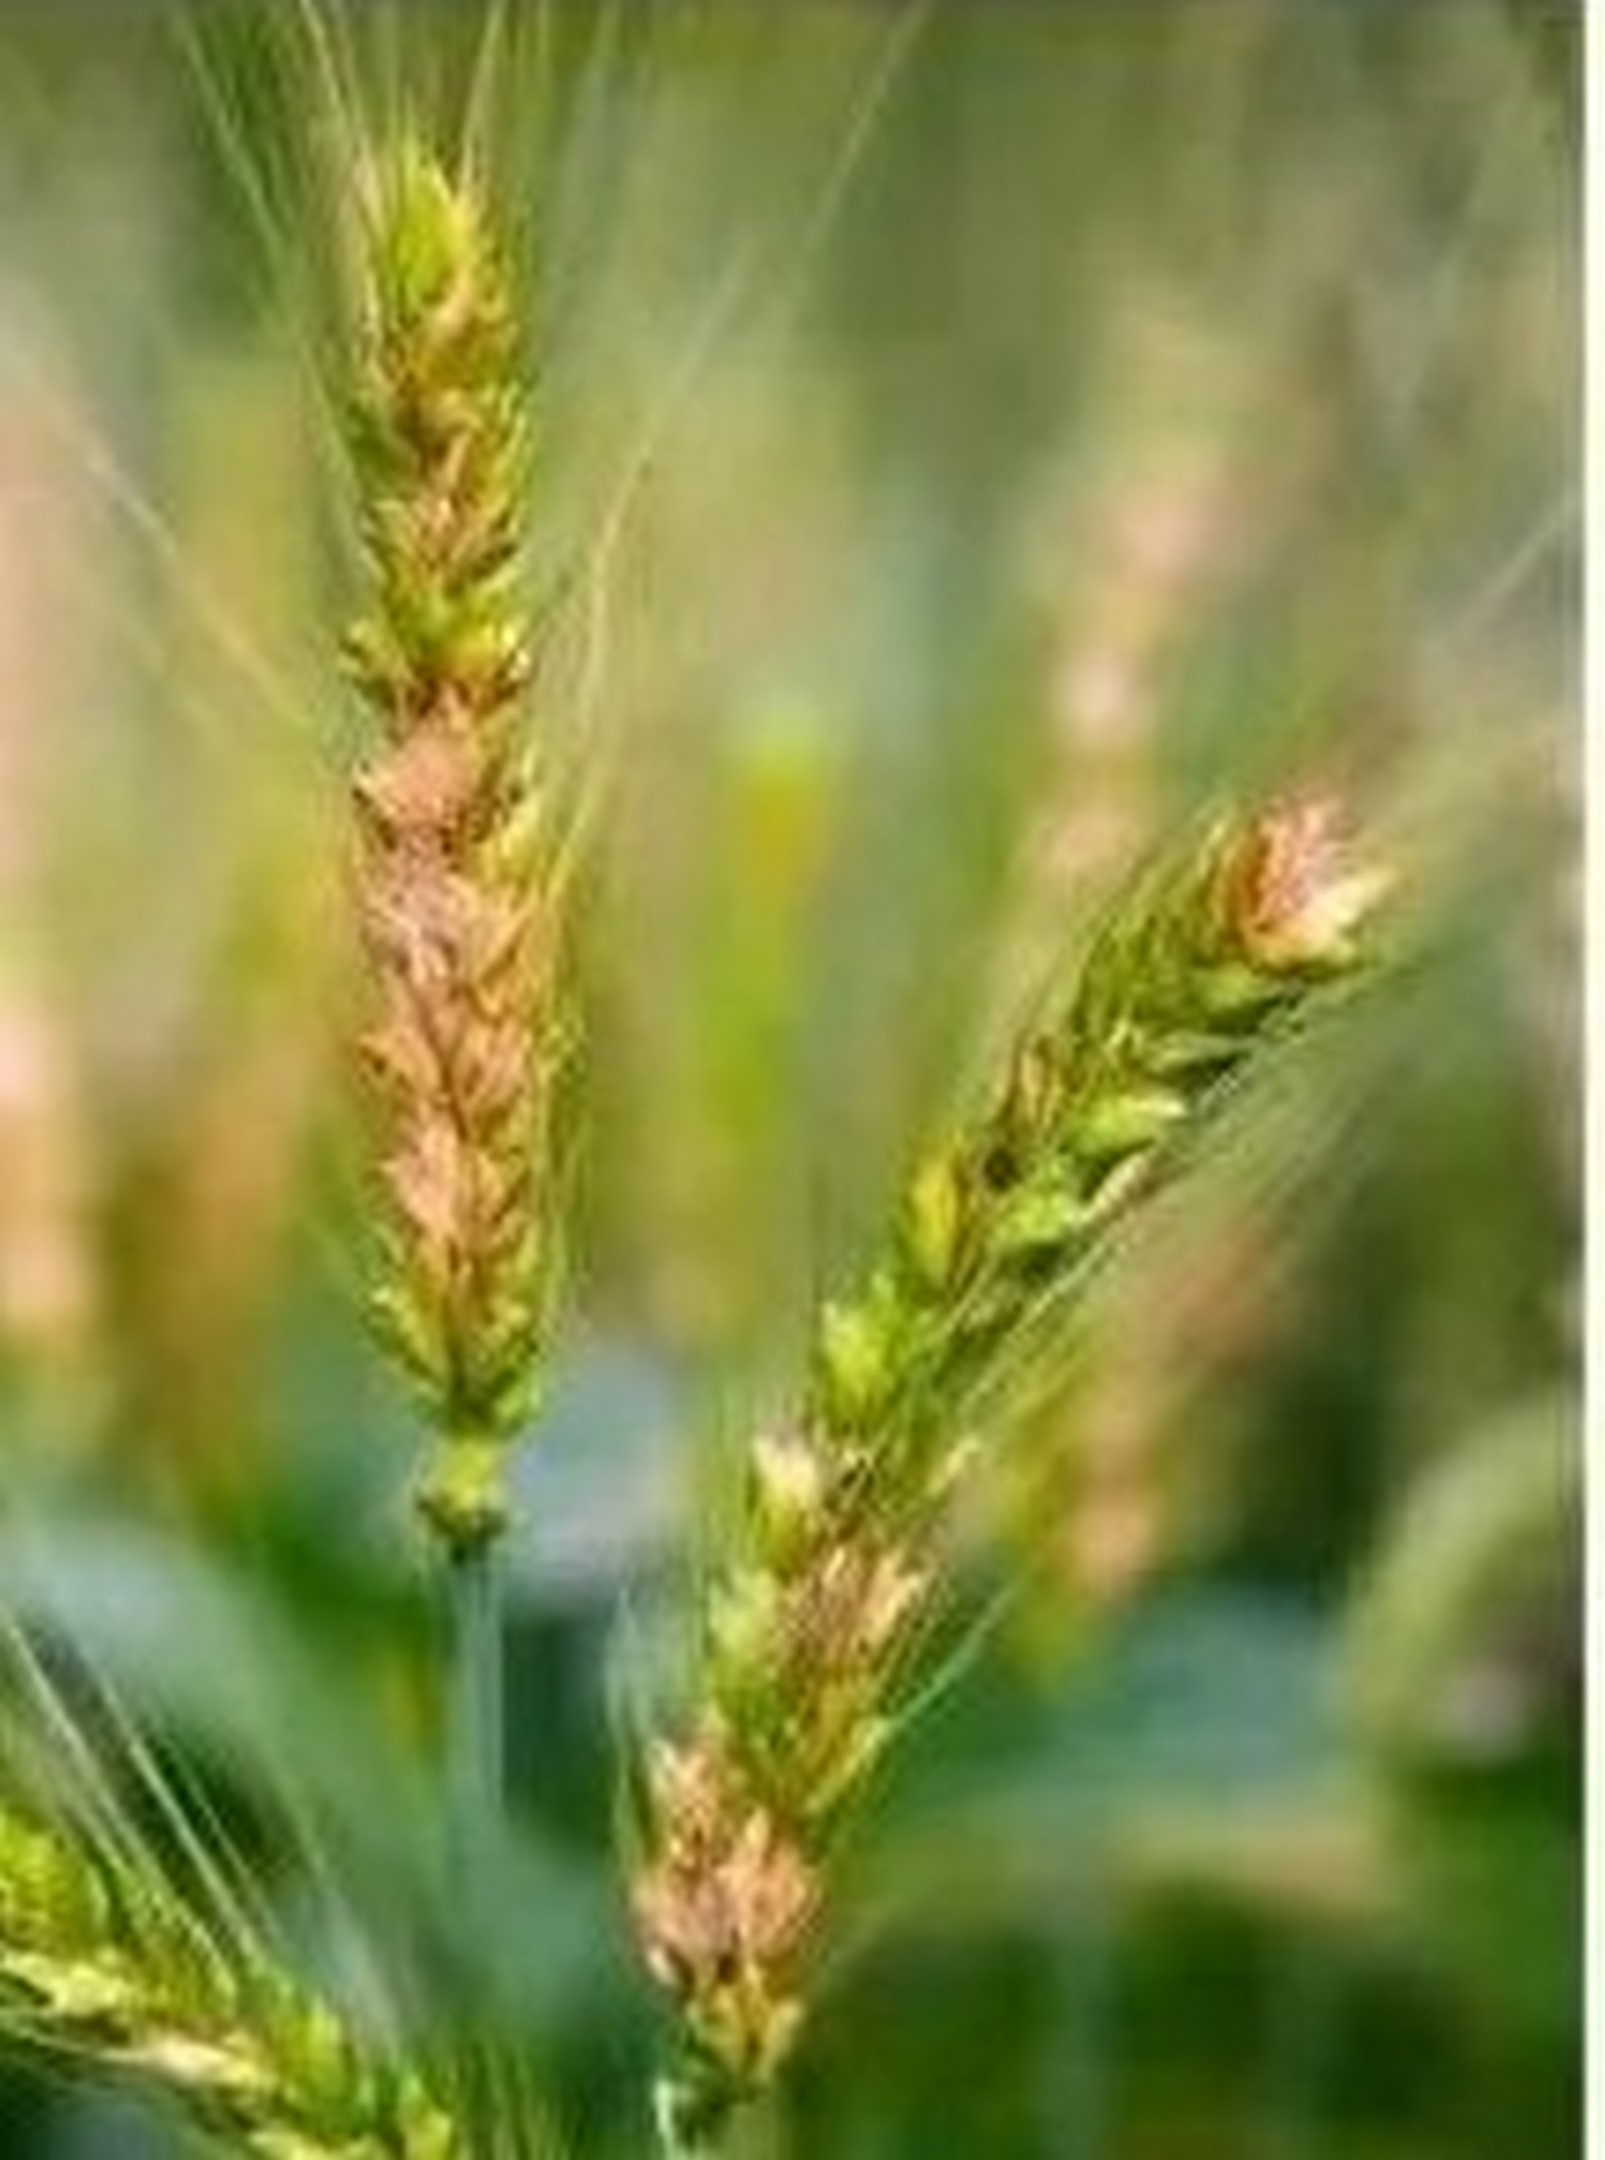Wheat scab: (642, 747, 1409, 2059), (292, 126, 605, 1477)
